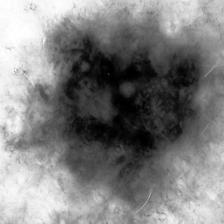Benign Marking or Mole: (43, 15, 202, 190)
